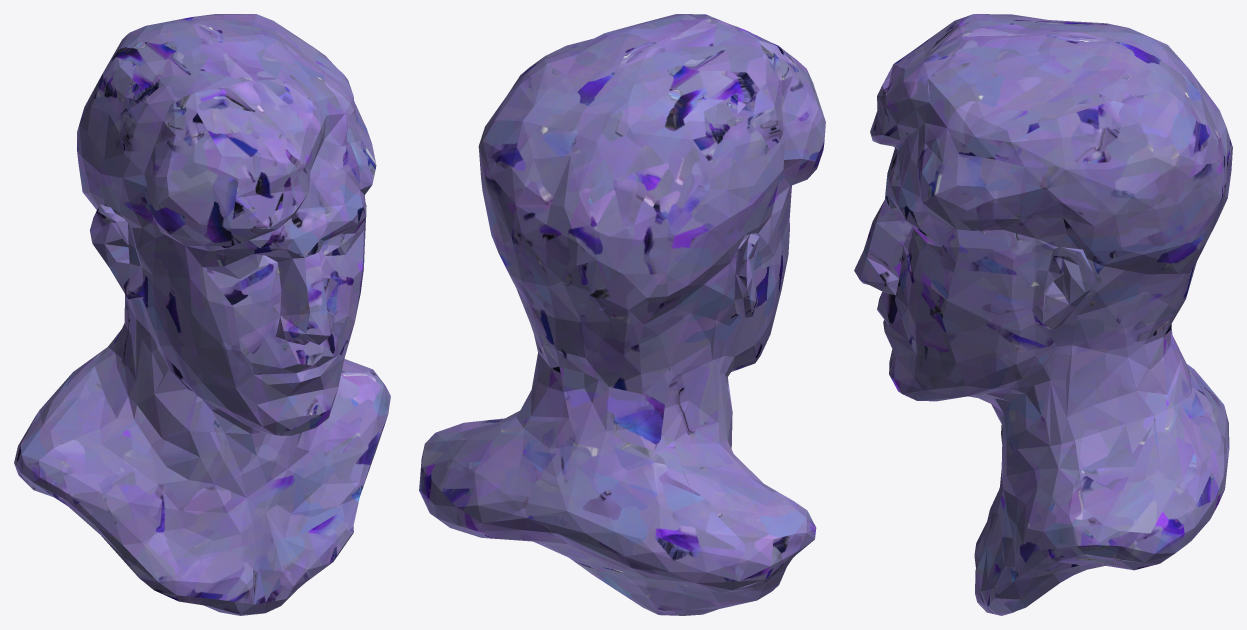
Rendered from sawyers-head.glb.
3 renders of one model, left to right at view 1: azimuth 30°, elevation 25°; view 2: azimuth 150°, elevation 25°; view 3: azimuth 270°, elevation 25°, orthographic. The views are drawn at different scales.
Visible parts, largest first — view 1: Sawyers-Head; view 2: Sawyers-Head; view 3: Sawyers-Head.
Boxes of the visible parts, x1=… form: Sawyers-Head: x1=14, y1=14, x2=390, y2=615; Sawyers-Head: x1=419, y1=14, x2=825, y2=615; Sawyers-Head: x1=854, y1=14, x2=1232, y2=615.
Size of the model in its own units: 451 by 670 by 405.
1 material, 1 textured.
